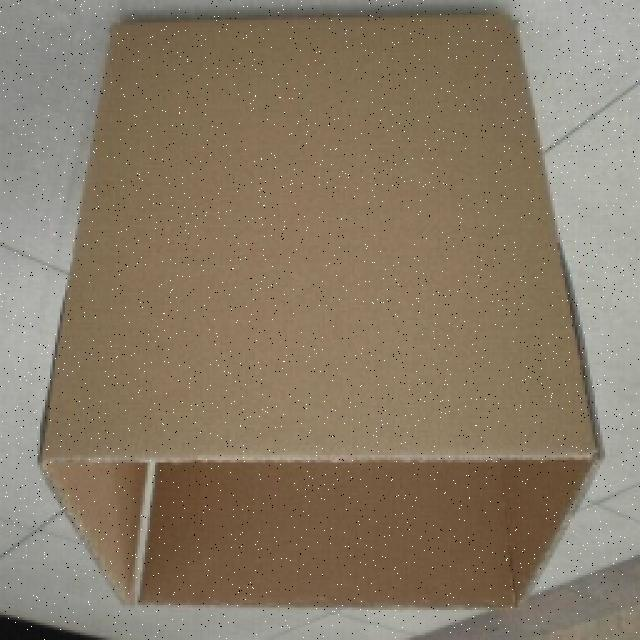box: (24, 0, 592, 623)
